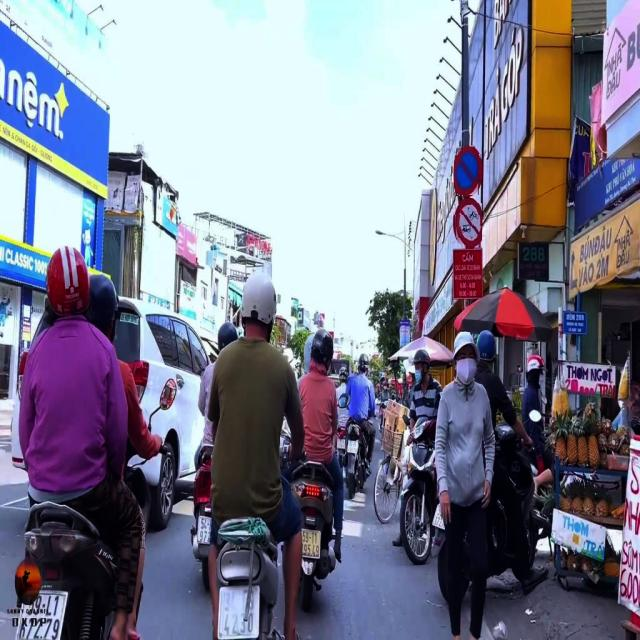cam_cac_loai_xe_3_banh: (453, 198, 482, 250)
cam_do_xe: (454, 147, 482, 196)
